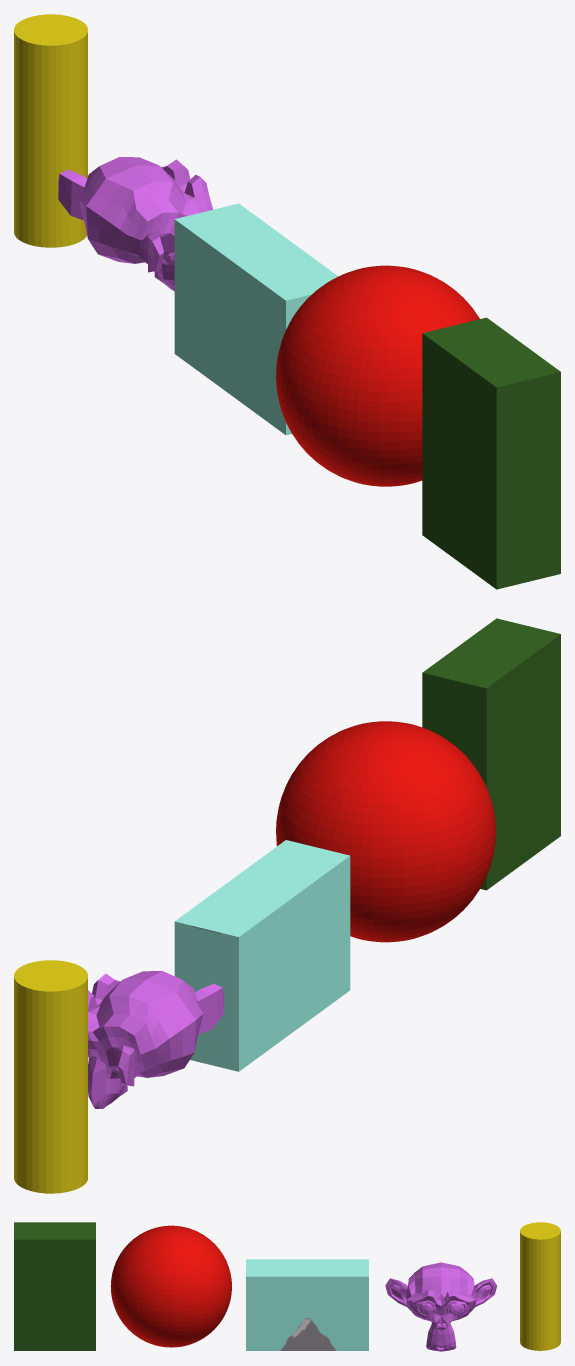
Rendered from Shelf Filler.glb.
3 views of the same model, one above another, from view 1: azimuth 30°, elevation 25°; view 2: azimuth 150°, elevation 25°; view 3: azimuth 270°, elevation 25° (orthographic). The views are drawn at different scales.
Visible parts, largest first — view 1: Cube, Sphere, Cube.001, Cylinder, Suzanne; view 2: Sphere, Cube.001, Cube, Cylinder, Suzanne; view 3: Sphere, Cube.001, Cube, Cylinder, Suzanne.
Boxes of the visible parts, x1,y1,x2,y2 form: Cube: (422, 317, 560, 589); Sphere: (276, 265, 479, 486); Cube.001: (174, 203, 338, 435); Cylinder: (14, 14, 87, 247); Suzanne: (58, 157, 213, 291); Sphere: (276, 721, 495, 942); Cube.001: (174, 840, 350, 1071); Cube: (422, 618, 560, 890); Cylinder: (14, 960, 87, 1193); Suzanne: (88, 971, 223, 1108); Sphere: (110, 1225, 231, 1347); Cube.001: (246, 1259, 368, 1350); Cube: (14, 1222, 95, 1350); Cylinder: (520, 1222, 560, 1350); Suzanne: (385, 1262, 496, 1351).
Bounding box in the file's own units: 2.96 × 3 × 13.36.
Materials: 5 (2 with a texture image).
